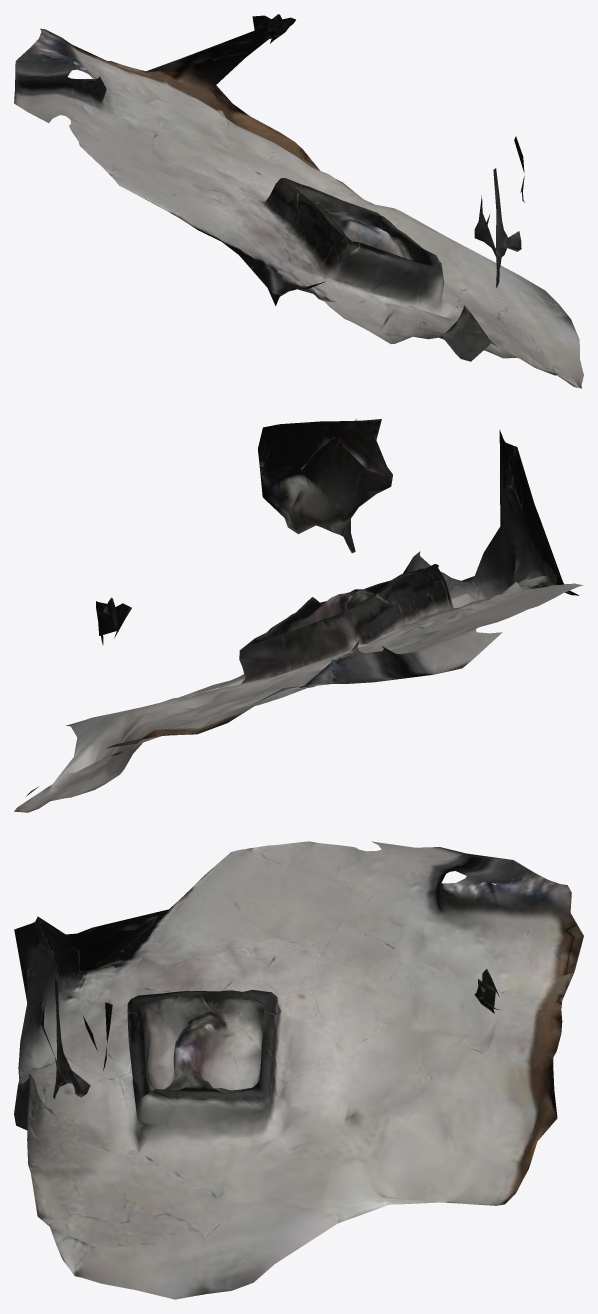
The model's file is hall.glb.
The picture shows the model from 3 angles, top to bottom: view 1: azimuth 30°, elevation 25°; view 2: azimuth 150°, elevation 25°; view 3: azimuth 270°, elevation 25°; orthographic projection. The views are drawn at different scales.
Size of the model in its own units: 0.9894 by 0.5372 by 1.12.
Materials: 1 (1 with a texture image).
